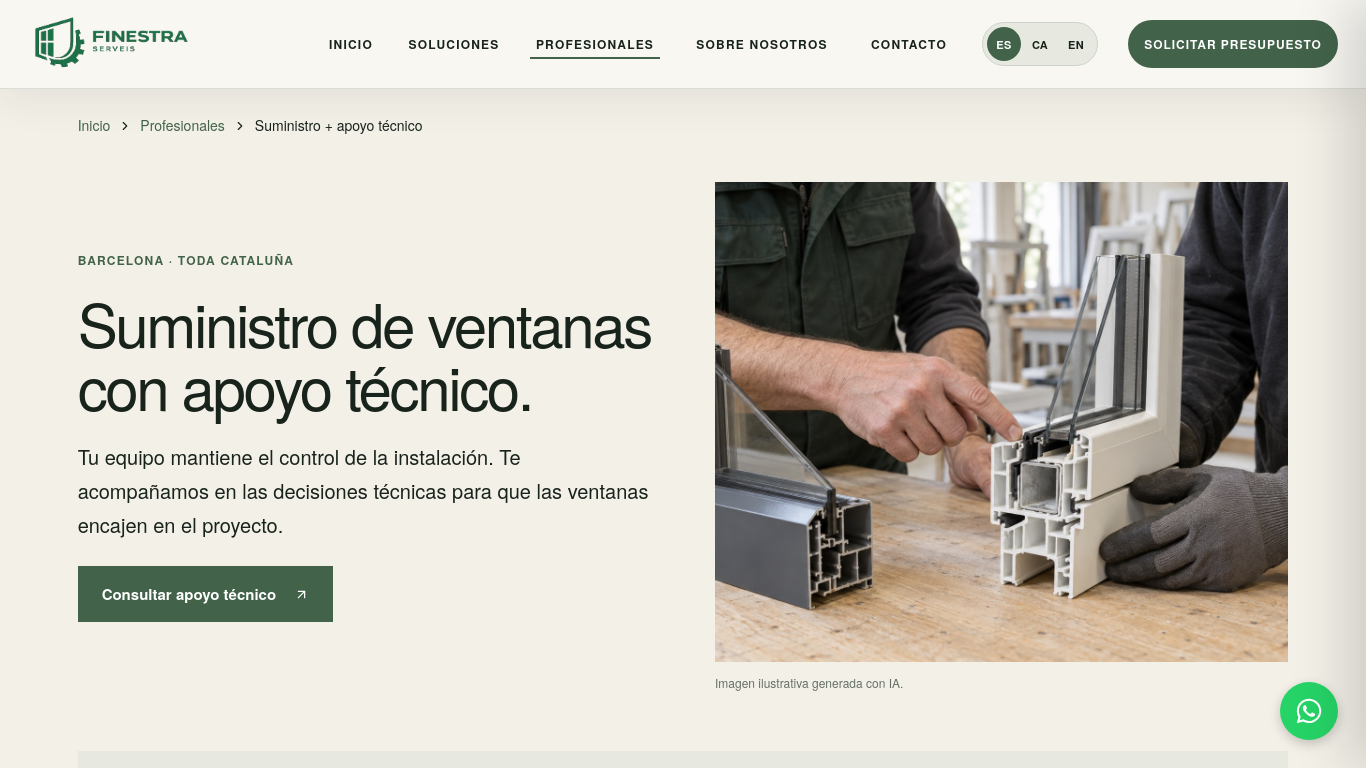
Test case: apoyo-tecnico opens a dedicated page and carries the choice to contact
This screenshot has width=1366, height=768.
Expected: the heading "Suministro de ventanas con apoyo técnico." is shown, [78,291,651,416]
Click the link "Consultar apoyo técnico" at (205, 594), box [78,566,333,622]
(page scrolled)
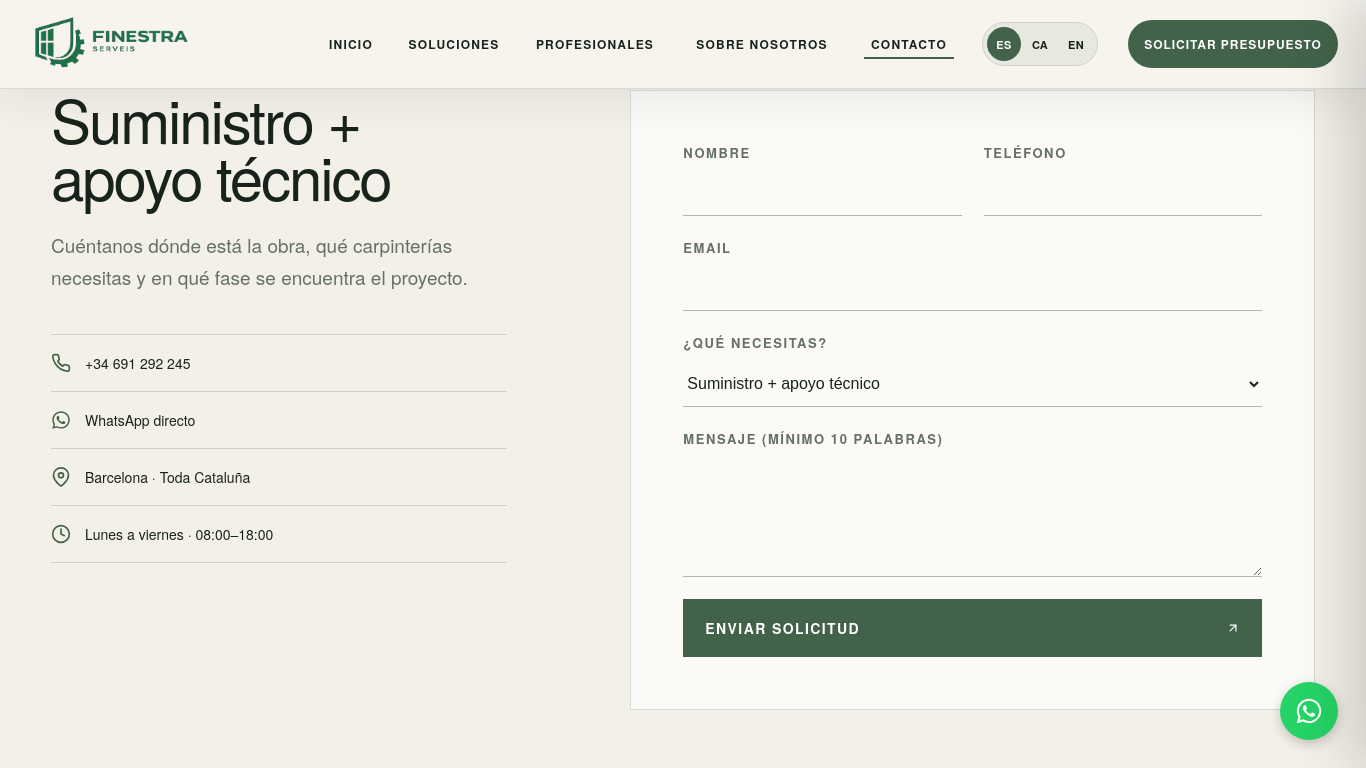
Now the dropdown shows "Suministro + apoyo técnico", box [683,361,1262,407]
